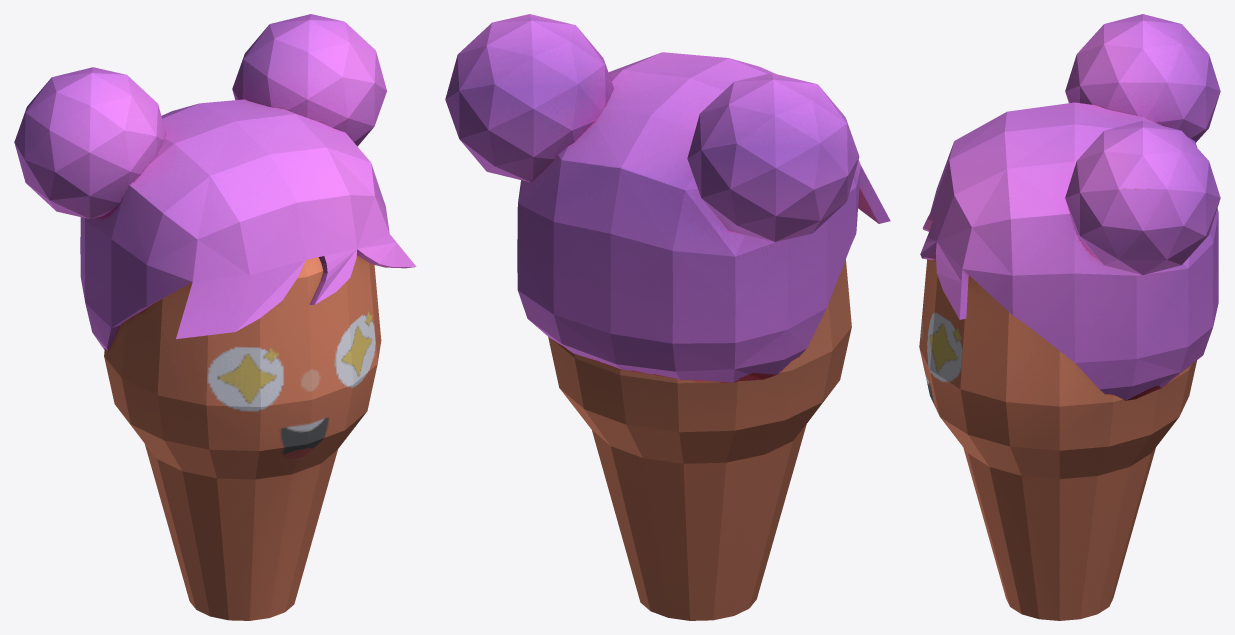
File: head5.glb
3 renders of one model, left to right at view 1: azimuth 30°, elevation 25°; view 2: azimuth 150°, elevation 25°; view 3: azimuth 270°, elevation 25°, orthographic. The views are drawn at different scales.
Parts seen in each view (by area): view 1: head5; view 2: head5; view 3: head5.
Boxes of the visible parts, left/top/right/bottom form: head5: left=14, top=14, right=416, bottom=620; head5: left=445, top=14, right=890, bottom=620; head5: left=919, top=14, right=1220, bottom=620.
Size of the model in its own units: 2.36 by 3.34 by 1.74.
Materials: 1 (1 with a texture image).
